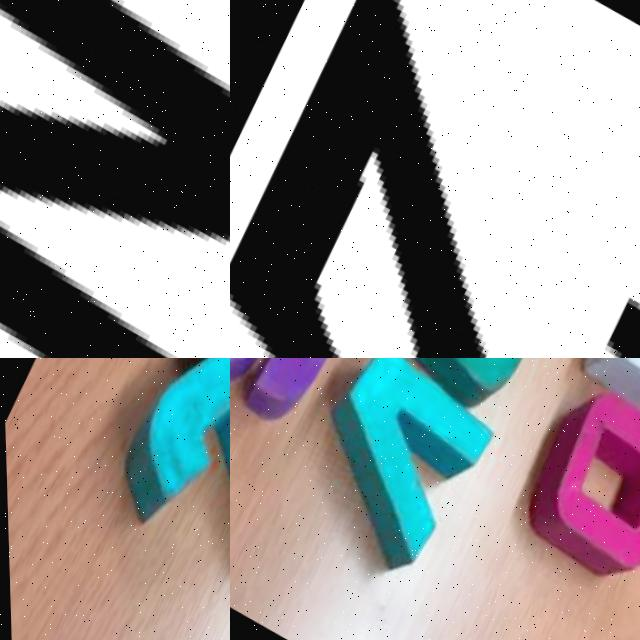2: (230, 0, 640, 358)
D: (353, 358, 588, 415)
N: (0, 0, 230, 358)
O: (488, 358, 640, 605)
S: (230, 358, 387, 443)
V: (269, 358, 522, 598)
